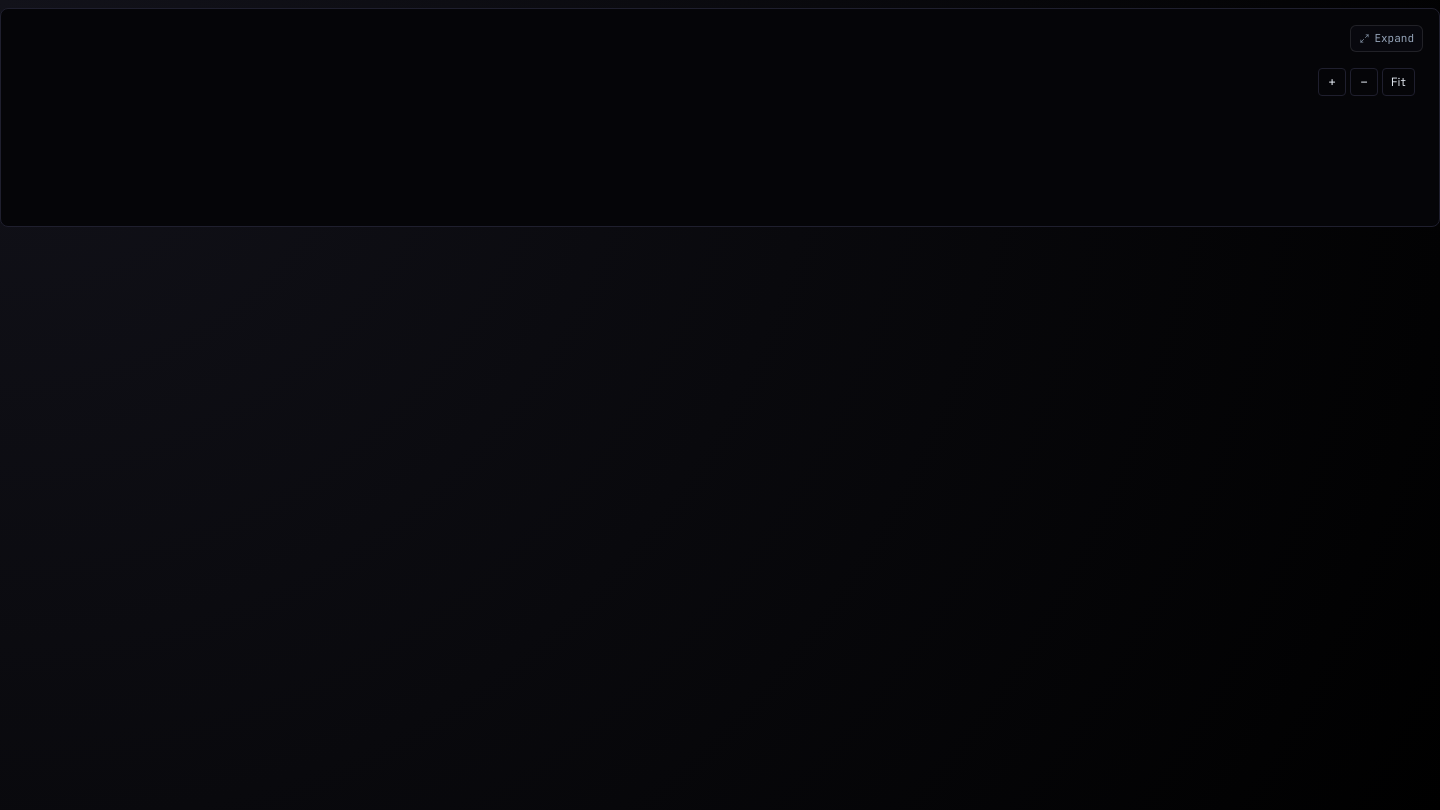
Test: MermaidPreview › opens and closes a fullscreen view with its own zoom controls
The width and height of the screenshot is (1440, 810).
Click the button labelled "Expand" at x=1387, y=38, box [1350,25,1423,52]
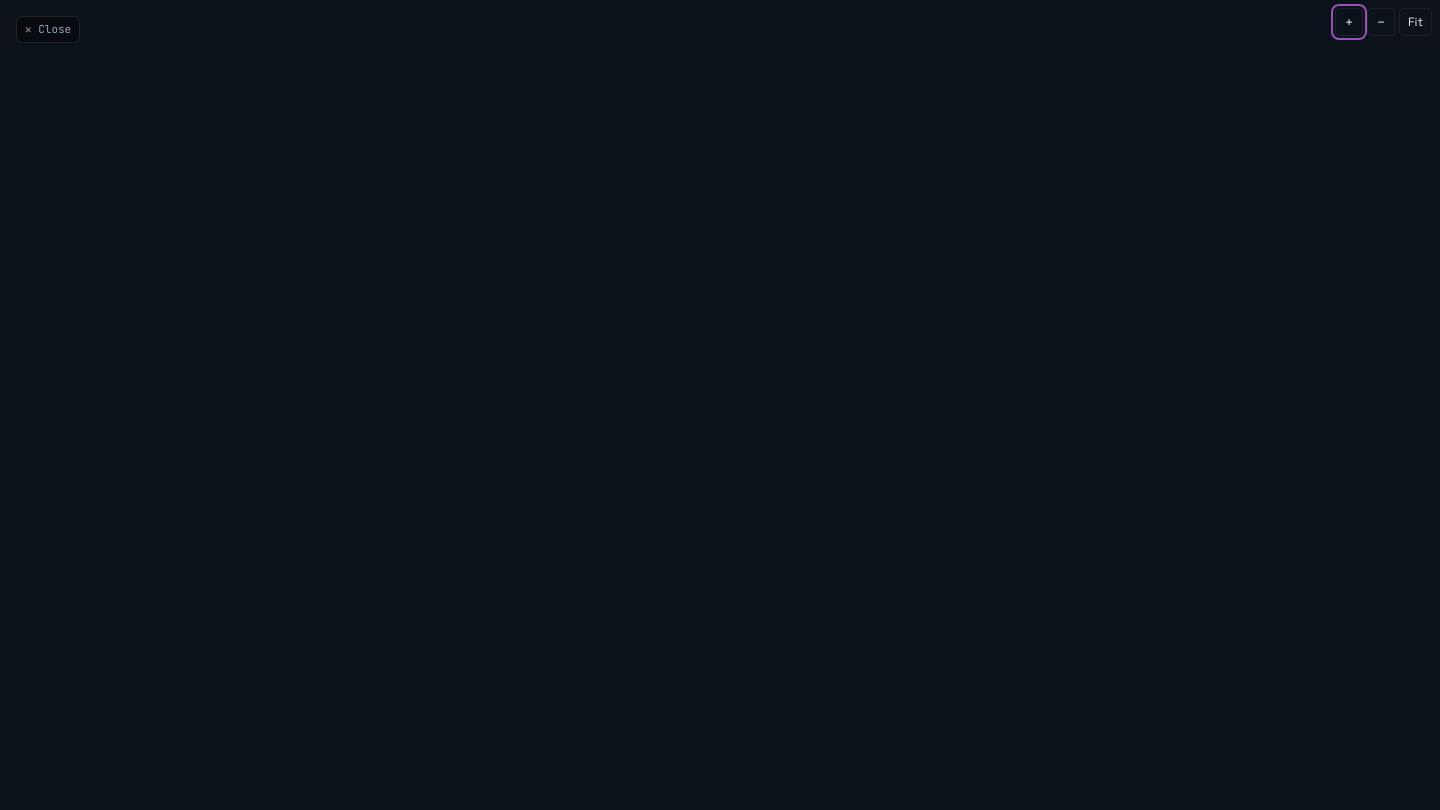
Press Escape
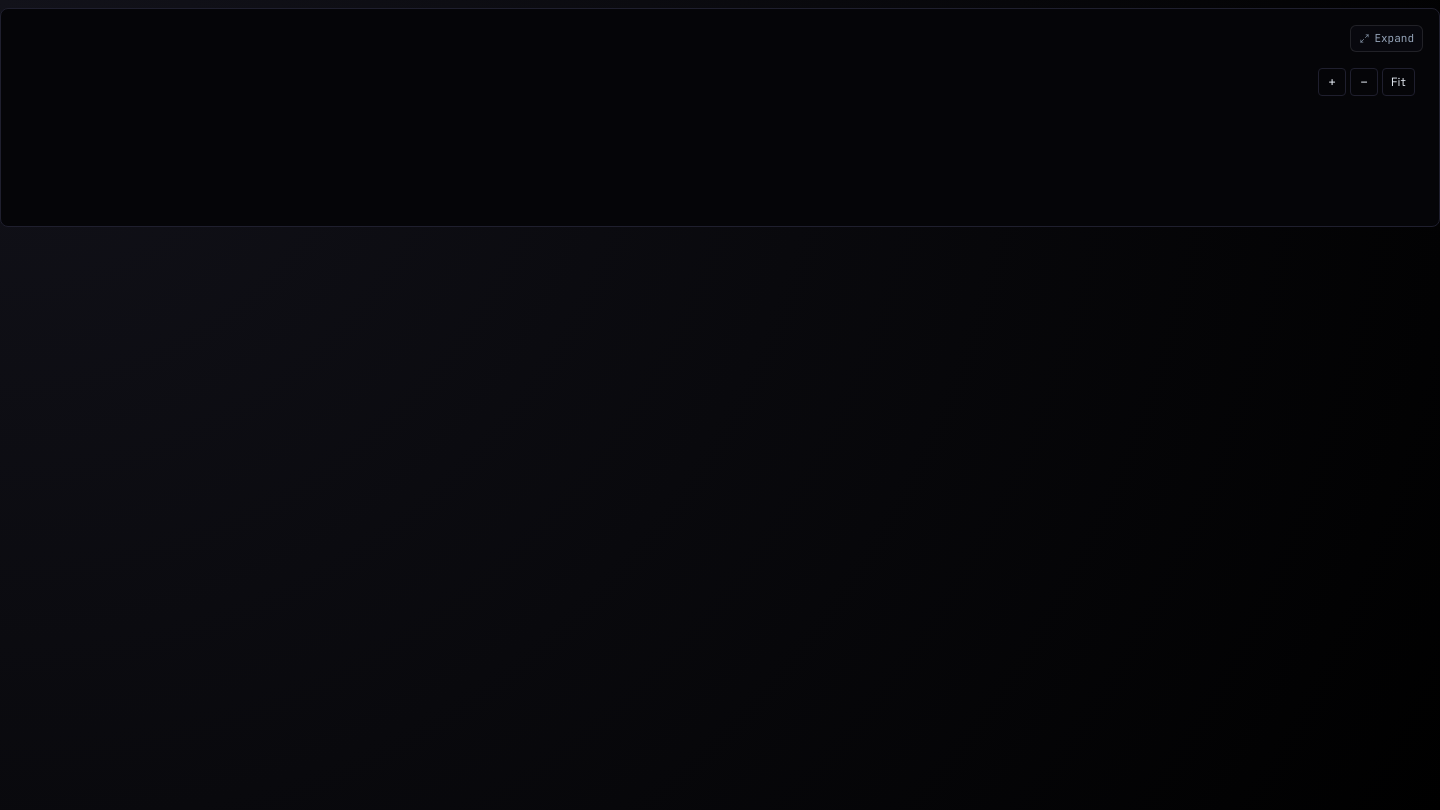
Expected: the dialog is gone
